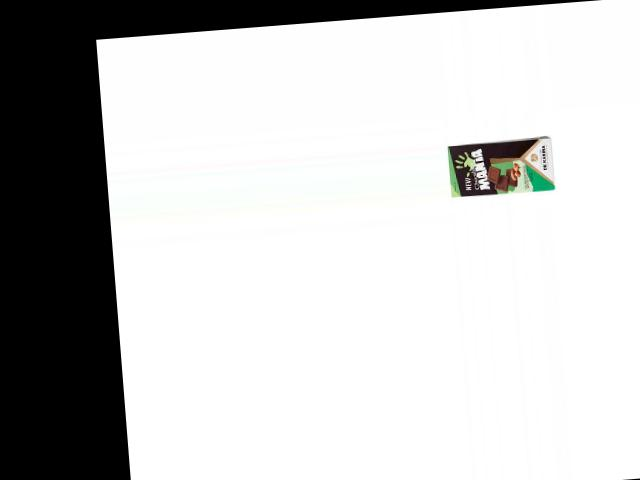chocolate: (445, 134, 557, 200)
